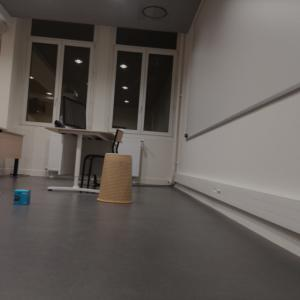medium: (97, 153, 135, 203)
small: (13, 189, 31, 206)
